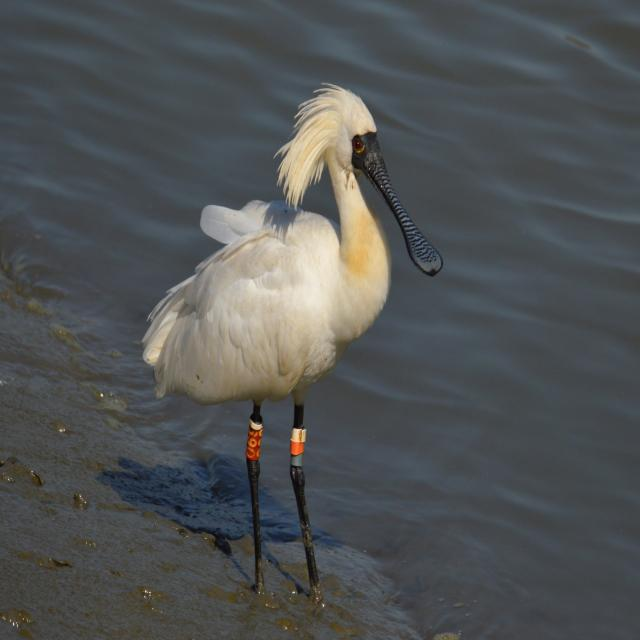Black-faced spoonbill: (144, 86, 442, 601)
